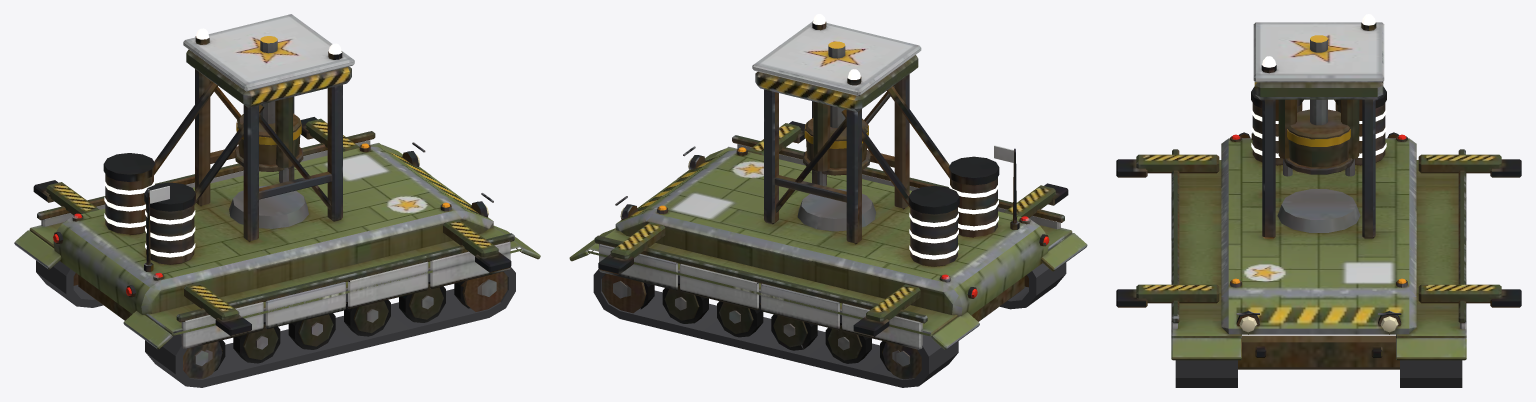
Rendered from qtnk.soviet.glb.
3 renders of one model, left to right at view 1: azimuth 30°, elevation 25°; view 2: azimuth 150°, elevation 25°; view 3: azimuth 270°, elevation 25°, orthographic. The views are drawn at different scales.
Visible parts, largest first — view 1: root_mesh, ram_mesh, leg2_mesh, leg0_mesh, leg3_mesh, leg1_mesh; view 2: root_mesh, ram_mesh, leg3_mesh, leg1_mesh, leg2_mesh, leg0_mesh; view 3: root_mesh, ram_mesh, leg0_mesh, leg1_mesh, leg2_mesh, leg3_mesh.
Part boxes in pixels (x1,y1,x2,y2): root_mesh: [14, 14, 540, 387]; ram_mesh: [234, 36, 303, 171]; leg2_mesh: [184, 282, 251, 335]; leg0_mesh: [443, 219, 511, 272]; leg3_mesh: [33, 180, 99, 215]; leg1_mesh: [301, 117, 359, 151]; root_mesh: [569, 14, 1087, 387]; ram_mesh: [803, 41, 870, 175]; leg3_mesh: [853, 284, 920, 336]; leg1_mesh: [598, 222, 665, 274]; leg2_mesh: [1004, 183, 1068, 217]; leg0_mesh: [747, 121, 805, 155]; root_mesh: [1171, 14, 1466, 387]; ram_mesh: [1283, 35, 1354, 174]; leg0_mesh: [1116, 284, 1219, 307]; leg1_mesh: [1418, 284, 1521, 307]; leg2_mesh: [1116, 154, 1219, 177]; leg3_mesh: [1418, 154, 1521, 177].
Size of the model in its own units: 1.1 by 0.729 by 0.975.
4 materials, 1 textured.
